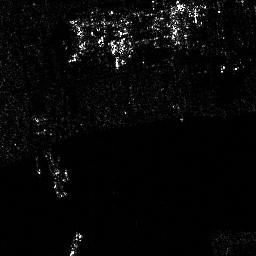ship: (69, 231, 80, 256)
